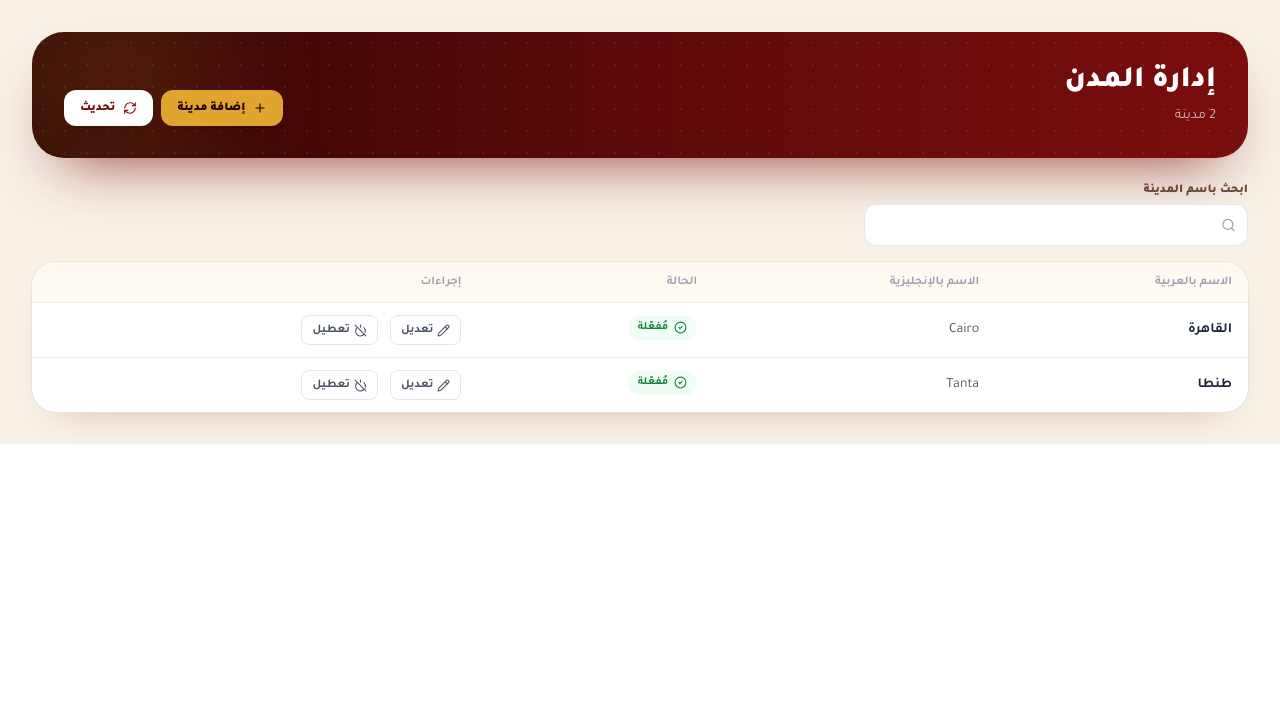
Test: the governorate picker drawer replaces the add/edit name form › shows a city that is not a catalogue governorate, tagged as hand-added
Expected: the text "طنطا" is shown, 995,358 -> 1248,412
Click the button "إضافة مدينة" at (222, 108), box 161,90 -> 283,126
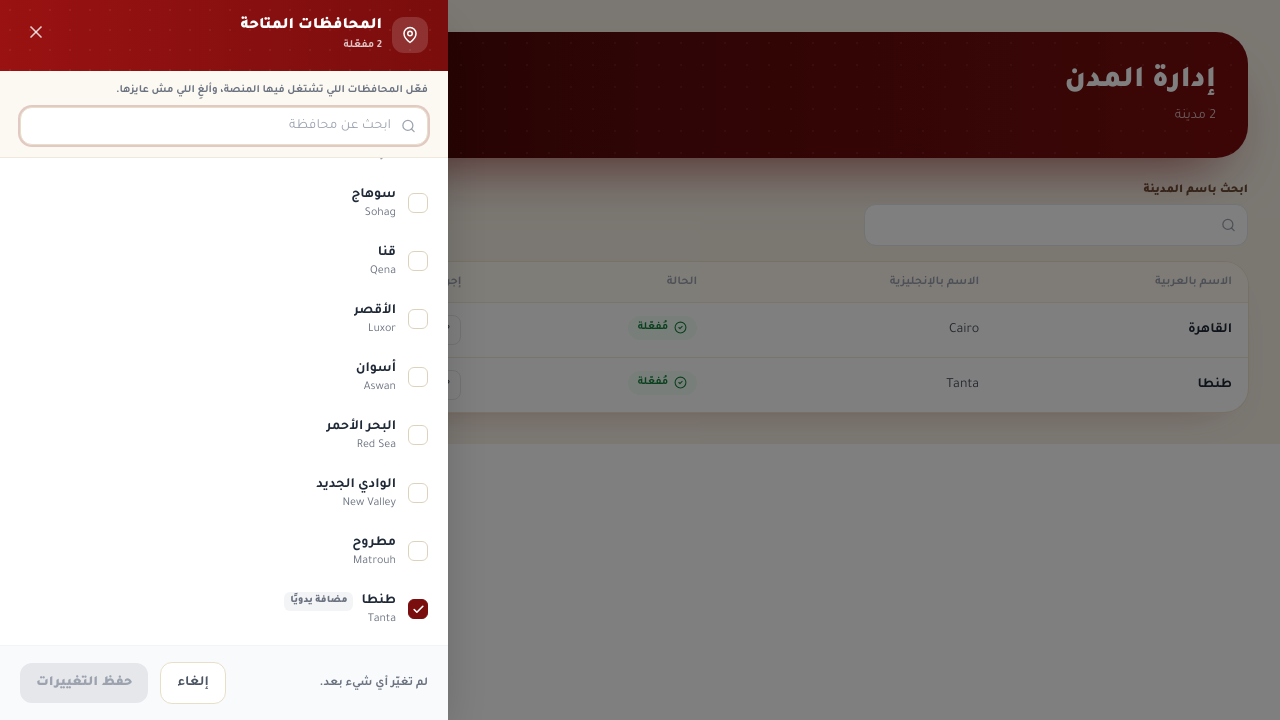
Result: the text "مضافة يدويًا" is shown at 284,592 -> 353,610
